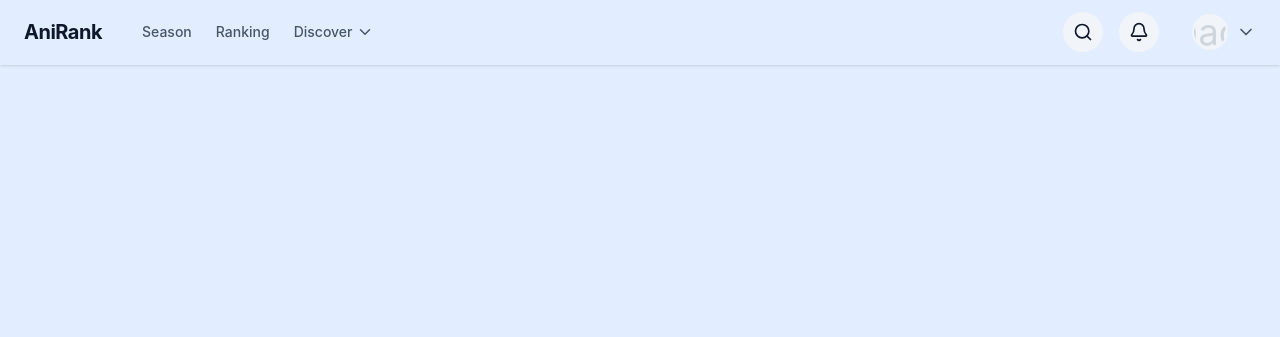
NavbarMaster Component › should handle logout correctly
Click the button with aria-label "toggle user dropdown menu". click: [1224, 32]
box: [1192,14,1256,50]
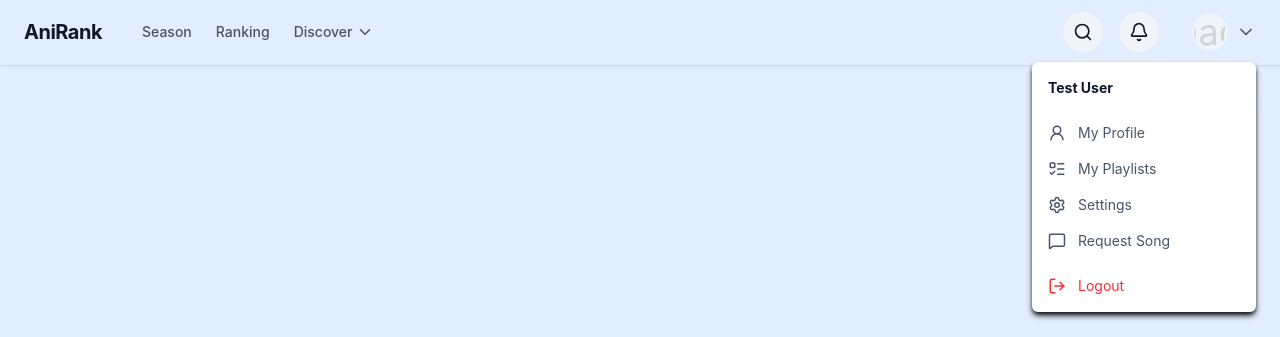
Click the button "Logout". click: [1144, 286]
box: [1032,268,1256,304]
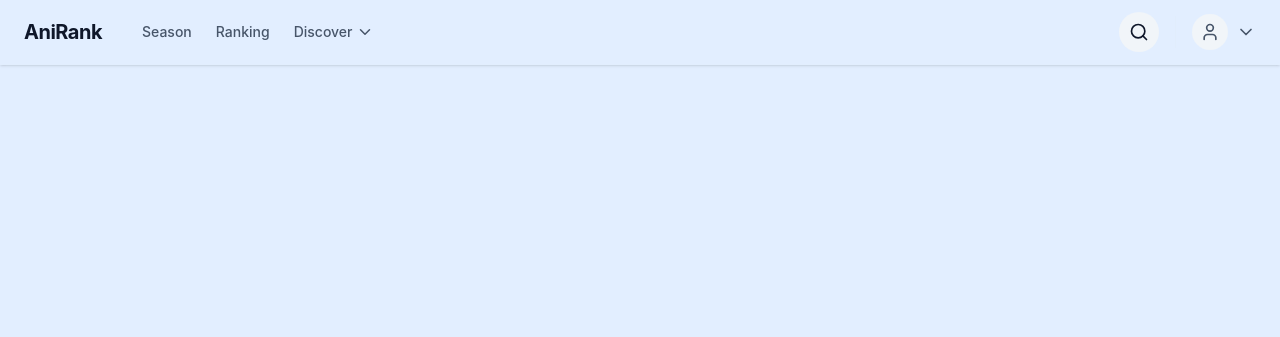
Click the button named "toggle user dropdown menu". click: [1224, 32]
box: [1192,14,1256,50]
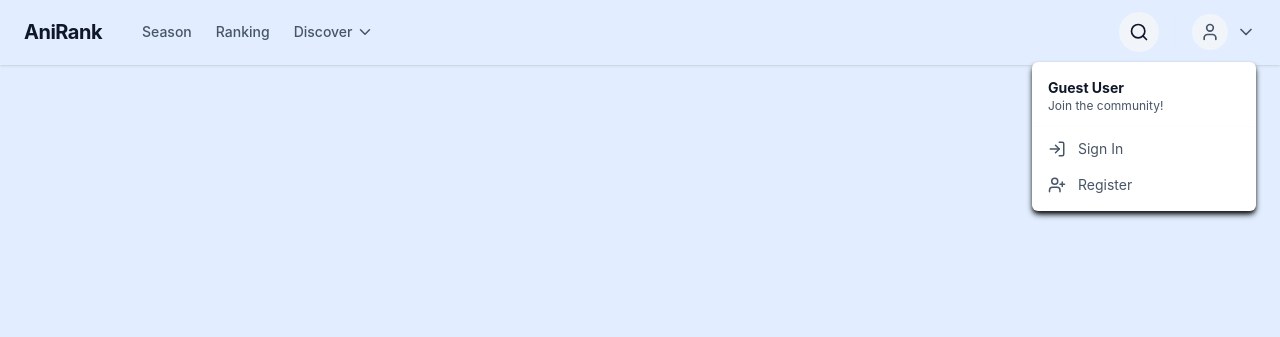
Now the link "Sign In" is shown, box [1048,140,1123,158]
